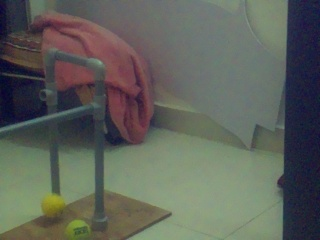ball: (41, 194, 65, 217)
